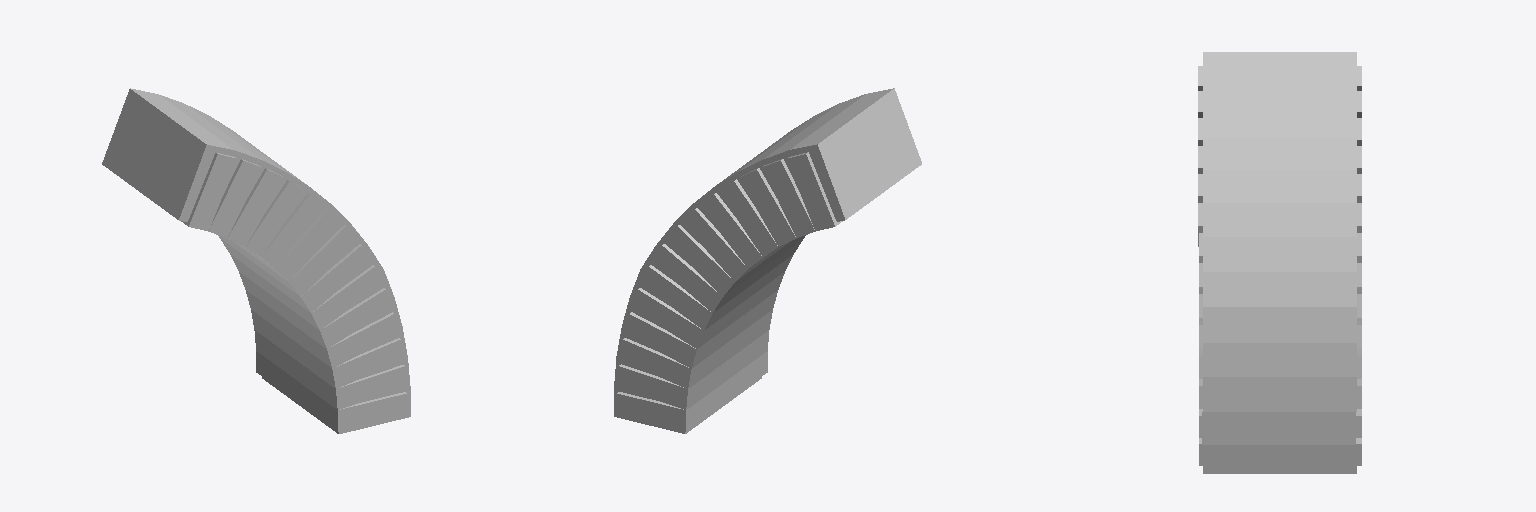
Rendered from lime_mortar_orange_clay_brick_gothic_arch_3.obj.
The picture shows the model from 3 angles: view 1: azimuth 30°, elevation 25°; view 2: azimuth 150°, elevation 25°; view 3: azimuth 270°, elevation 25°; orthographic projection.
Visible parts, largest first — view 1: cube.034, cube.009, cube.010, cube.011, cube.012, cube.013, cube.014, cube.015, cube.016, cube.017, cube.022, cube.021 (+5 smaller); view 2: cube.034, cube.009, cube.010, cube.011, cube.012, cube.013, cube.014, cube.015, cube.016, cube.022, cube.017, cube.021 (+5 smaller); view 3: cube.026, cube.024, cube.027, cube.028, cube.025, cube.029, cube.030, cube.035, cube.031, cube.032, cube.023, cube.033 (+1 smaller).
Boxes of the visible parts, x1=… form: cube.034: x1=102, y1=88, x2=234, y2=221; cube.009: x1=256, y1=351, x2=406, y2=431; cube.010: x1=254, y1=330, x2=406, y2=409; cube.011: x1=251, y1=310, x2=404, y2=388; cube.012: x1=246, y1=290, x2=399, y2=368; cube.013: x1=239, y1=272, x2=392, y2=348; cube.014: x1=230, y1=254, x2=383, y2=329; cube.015: x1=220, y1=238, x2=371, y2=312; cube.016: x1=218, y1=225, x2=357, y2=296; cube.017: x1=233, y1=208, x2=341, y2=281; cube.022: x1=181, y1=153, x2=236, y2=231; cube.021: x1=209, y1=159, x2=261, y2=237; cube.034: x1=790, y1=88, x2=921, y2=221; cube.009: x1=617, y1=351, x2=767, y2=431; cube.010: x1=617, y1=330, x2=768, y2=409; cube.011: x1=619, y1=310, x2=772, y2=388; cube.012: x1=624, y1=290, x2=777, y2=368; cube.013: x1=631, y1=272, x2=784, y2=348; cube.014: x1=640, y1=254, x2=793, y2=329; cube.015: x1=652, y1=238, x2=803, y2=312; cube.016: x1=666, y1=225, x2=805, y2=296; cube.022: x1=787, y1=152, x2=842, y2=231; cube.017: x1=682, y1=208, x2=790, y2=281; cube.021: x1=762, y1=159, x2=814, y2=237; cube.026: x1=1203, y1=307, x2=1356, y2=342; cube.024: x1=1203, y1=377, x2=1356, y2=411; cube.027: x1=1203, y1=272, x2=1356, y2=306; cube.028: x1=1203, y1=237, x2=1356, y2=271; cube.025: x1=1203, y1=343, x2=1356, y2=376; cube.029: x1=1203, y1=203, x2=1356, y2=236; cube.030: x1=1203, y1=170, x2=1356, y2=202; cube.035: x1=1202, y1=412, x2=1355, y2=444; cube.031: x1=1203, y1=138, x2=1356, y2=169; cube.032: x1=1203, y1=107, x2=1356, y2=137; cube.023: x1=1203, y1=445, x2=1356, y2=473; cube.033: x1=1203, y1=78, x2=1356, y2=106.
Bounding box in the file's own units: 1.75 × 2.33 × 1.07.